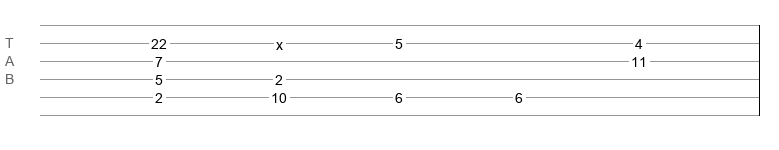10: (271, 90, 287, 100)
11: (631, 54, 647, 64)
2: (155, 90, 163, 100), (275, 72, 283, 82)
22: (151, 36, 167, 46)
4: (635, 36, 643, 46)
5: (155, 72, 163, 82), (395, 36, 403, 46)
6: (395, 90, 403, 100), (515, 90, 523, 100)
7: (155, 54, 163, 64)
x: (276, 37, 283, 45)
